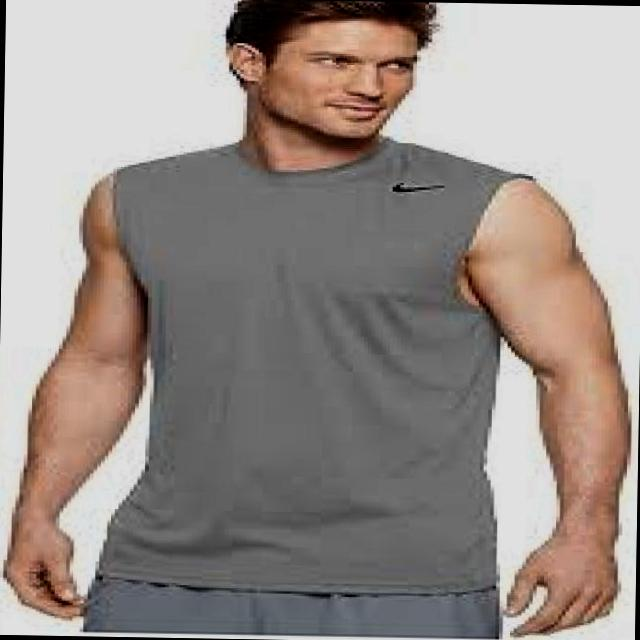no_vest: (96, 128, 540, 598)
